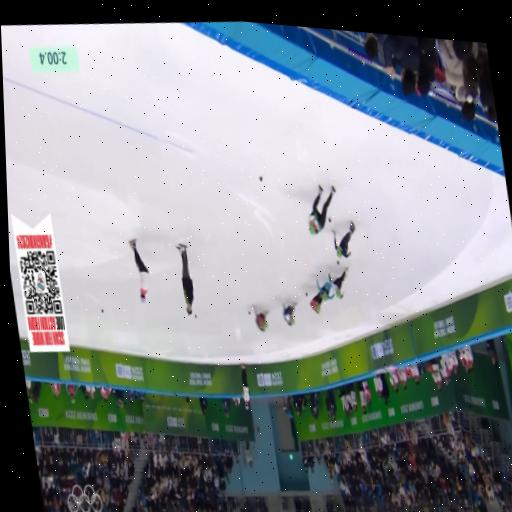Skater: (308, 185, 334, 234), (332, 222, 353, 257), (328, 267, 347, 297), (315, 273, 333, 300), (254, 307, 267, 330), (282, 303, 294, 325), (309, 292, 321, 312)
